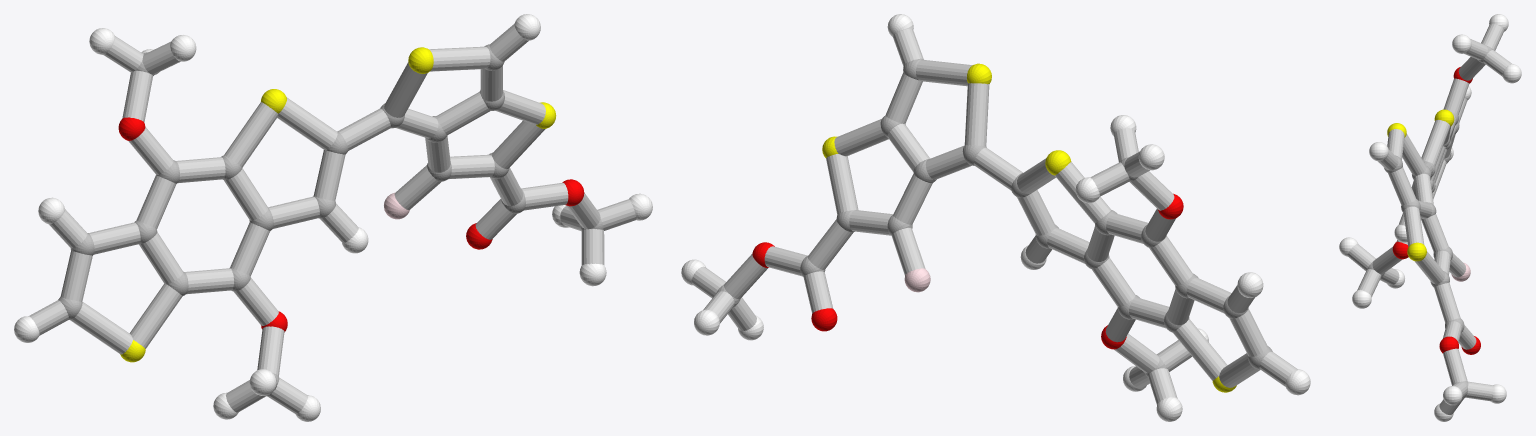
Rendered from color.glb.
The picture shows the model from 3 angles, left to right: view 1: azimuth 30°, elevation 25°; view 2: azimuth 150°, elevation 25°; view 3: azimuth 270°, elevation 25°; orthographic projection. The views are drawn at different scales.
Parts seen in each view (by area): view 1: grp15205, grp8689, grp1, grp7241, grp13395; view 2: grp15205, grp8689, grp1, grp13395, grp7241; view 3: grp15205, grp8689, grp1, grp13395, grp7241.
Part boxes in pixels (<box>): grp15205: <box>29,24,636,414</box>; grp8689: <box>14,14,652,421</box>; grp1: <box>58,44,603,396</box>; grp7241: <box>120,47,556,362</box>; grp13395: <box>118,117,584,332</box>; grp15205: <box>691,28,1297,404</box>; grp8689: <box>681,14,1310,421</box>; grp1: <box>716,58,1272,376</box>; grp13395: <box>752,193,1183,349</box>; grp7241: <box>822,63,1236,392</box>; grp15205: <box>1347,23,1511,414</box>; grp8689: <box>1339,14,1521,421</box>; grp1: <box>1367,45,1493,398</box>; grp13395: <box>1392,67,1480,354</box>; grp7241: <box>1387,109,1454,261</box>.
Bounding box in the file's own units: 16.45 × 8.57 × 5.58.
